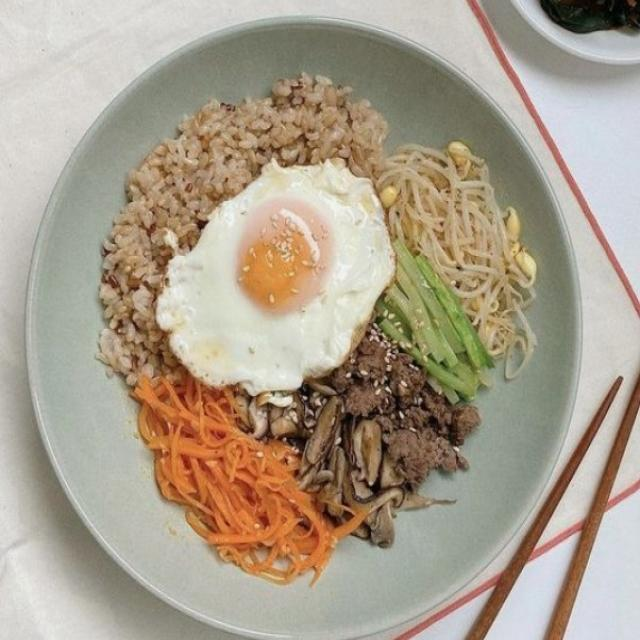Carbohydrate: (91, 76, 399, 394)
Kaow-Yum: (54, 24, 561, 620)
Protein: (152, 157, 399, 403), (335, 328, 480, 490)
Vegetable: (129, 376, 402, 589), (386, 139, 542, 406)
